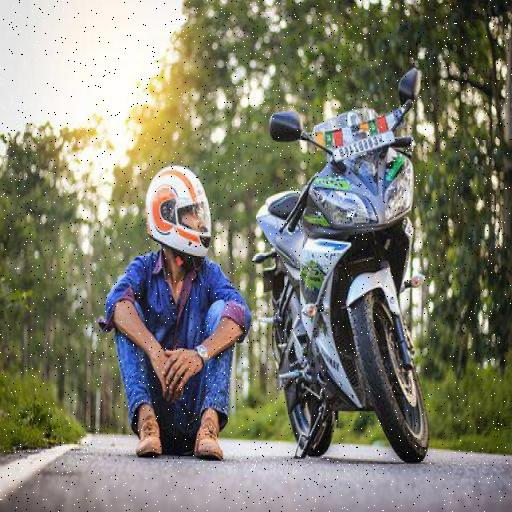Helmet: (122, 154, 224, 256)
Motor: (258, 90, 455, 456)
